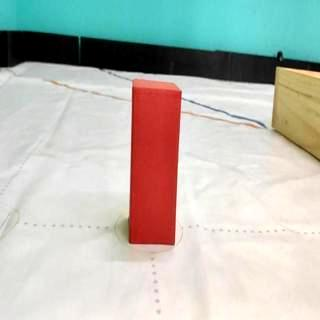redbox: (129, 80, 183, 246)
